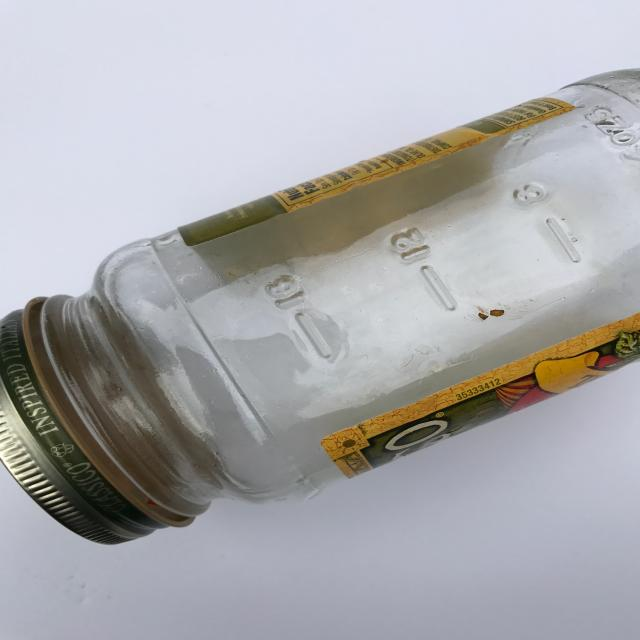glass: (0, 67, 640, 546)
